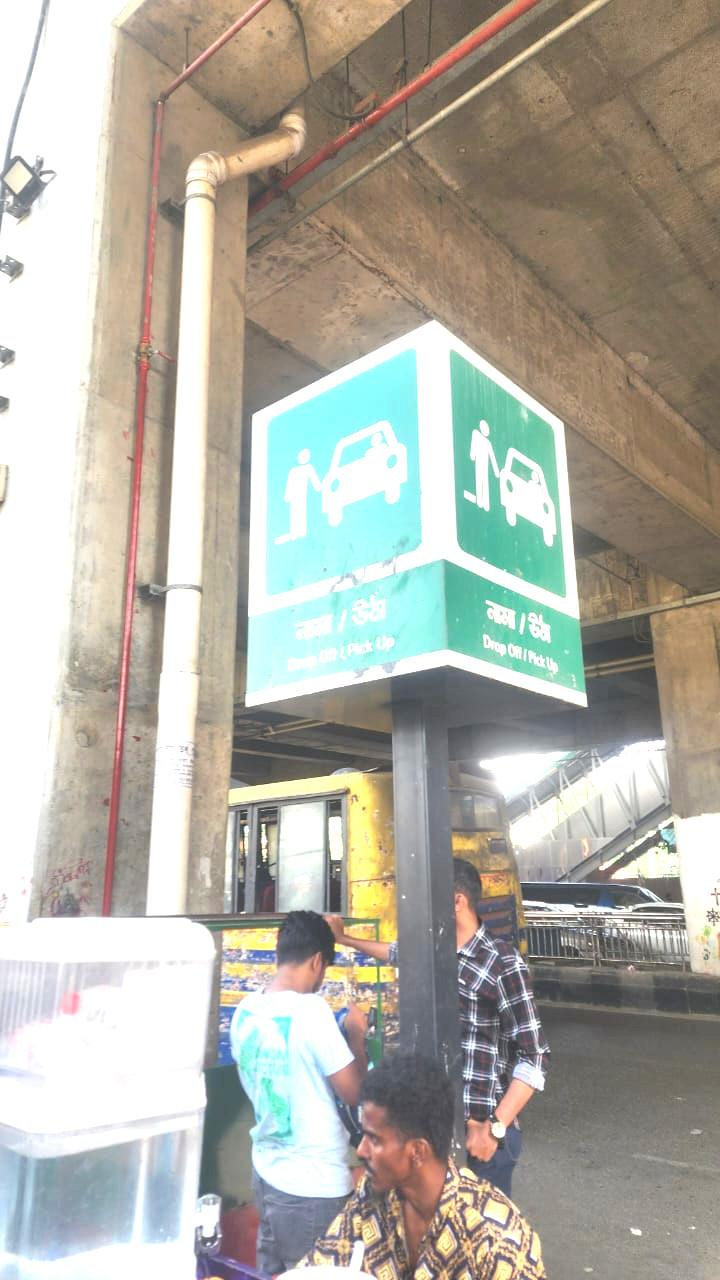Metro Dorp Up Pick up: (248, 311, 588, 674)
